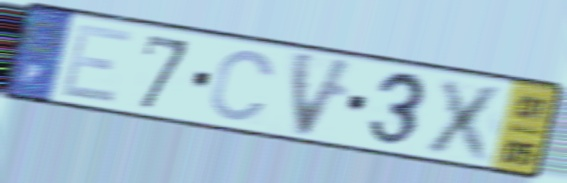3: (365, 67, 431, 150)
7: (135, 31, 194, 112)
C: (206, 47, 279, 124)
E: (56, 21, 137, 107)
V: (289, 47, 361, 141)
X: (419, 74, 512, 166)
